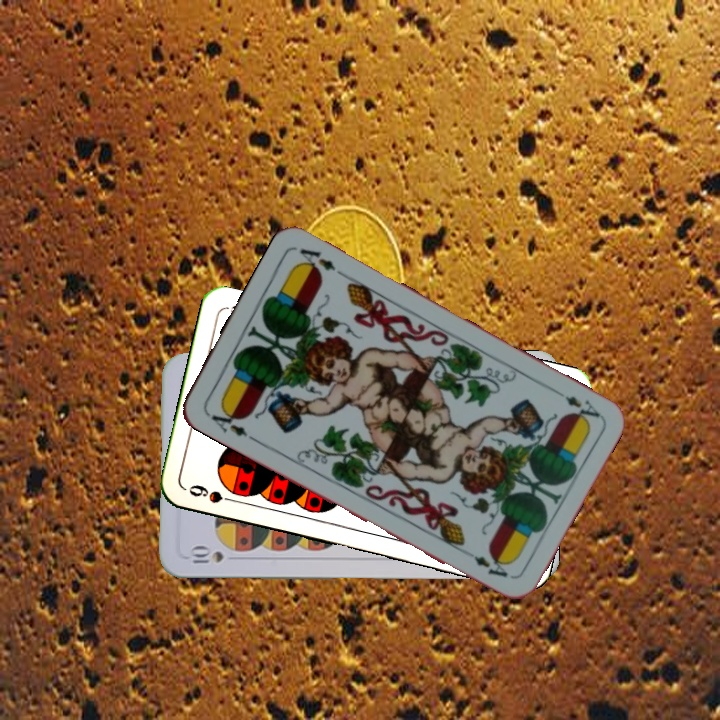EA: (203, 403, 258, 443), (561, 392, 603, 427)
S10: (186, 544, 226, 567)
S9: (185, 480, 242, 506)
